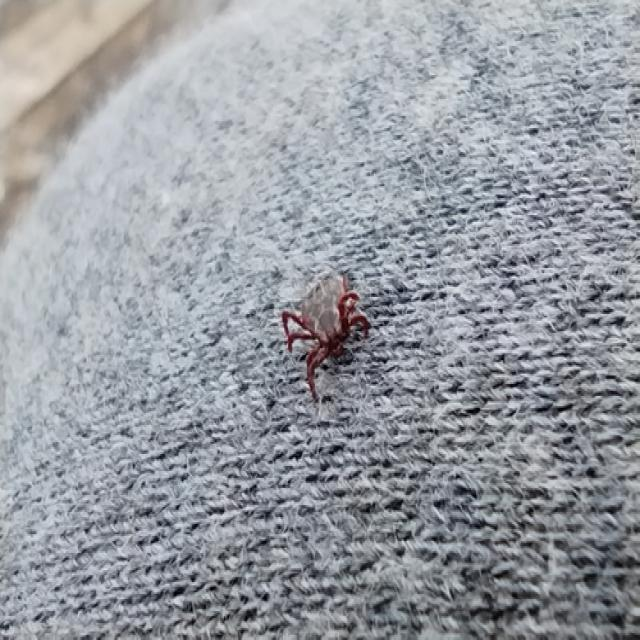Dermacentor Reticulatus-M: (280, 273, 370, 399)
